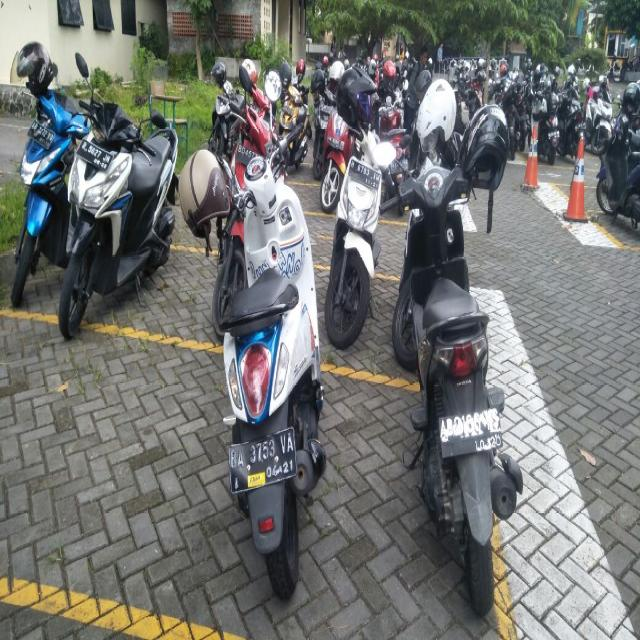plate: (227, 424, 296, 488), (438, 408, 502, 451), (346, 156, 381, 192), (76, 138, 111, 171), (27, 120, 54, 151)
